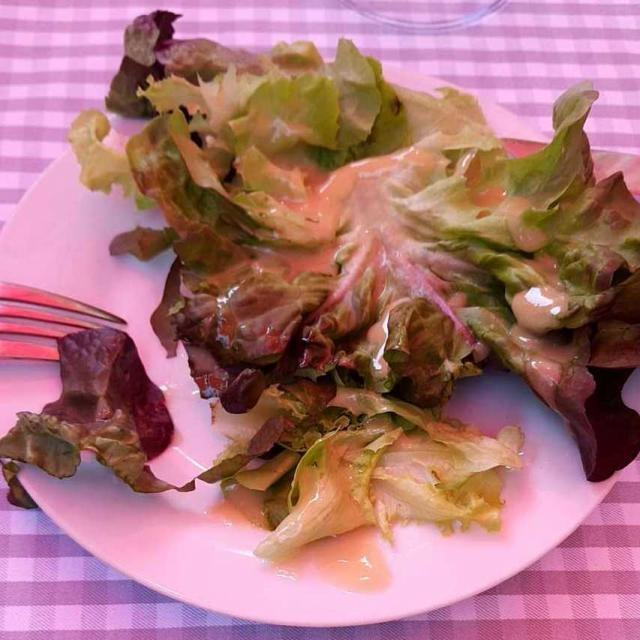salad: (71, 24, 626, 541), (198, 94, 602, 592)
